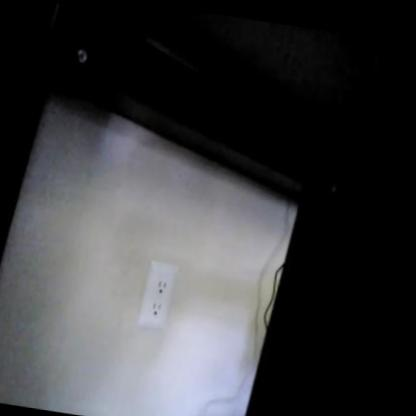OUTLET: (139, 260, 179, 329)
